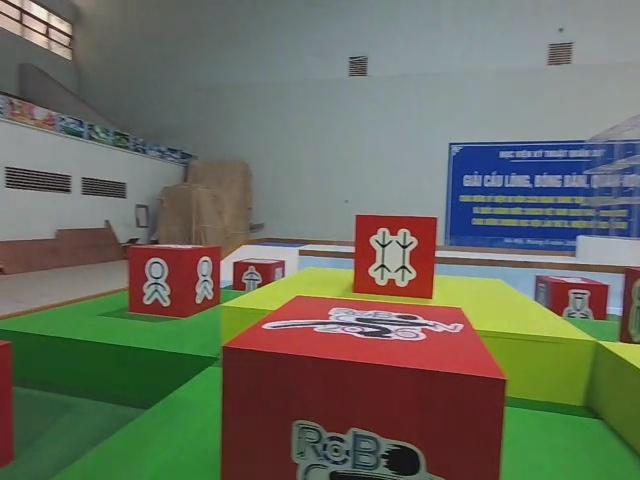R1: (220, 295, 505, 480)
R2 Fake: (233, 257, 284, 299)
R2 Real: (354, 215, 437, 301), (128, 243, 221, 317), (535, 275, 610, 324)
